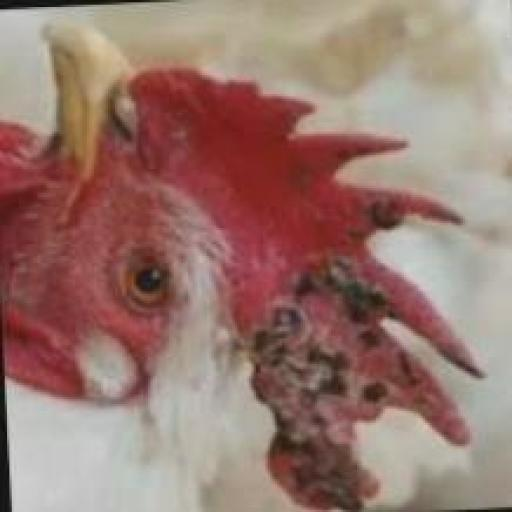disease: (236, 197, 446, 510)
